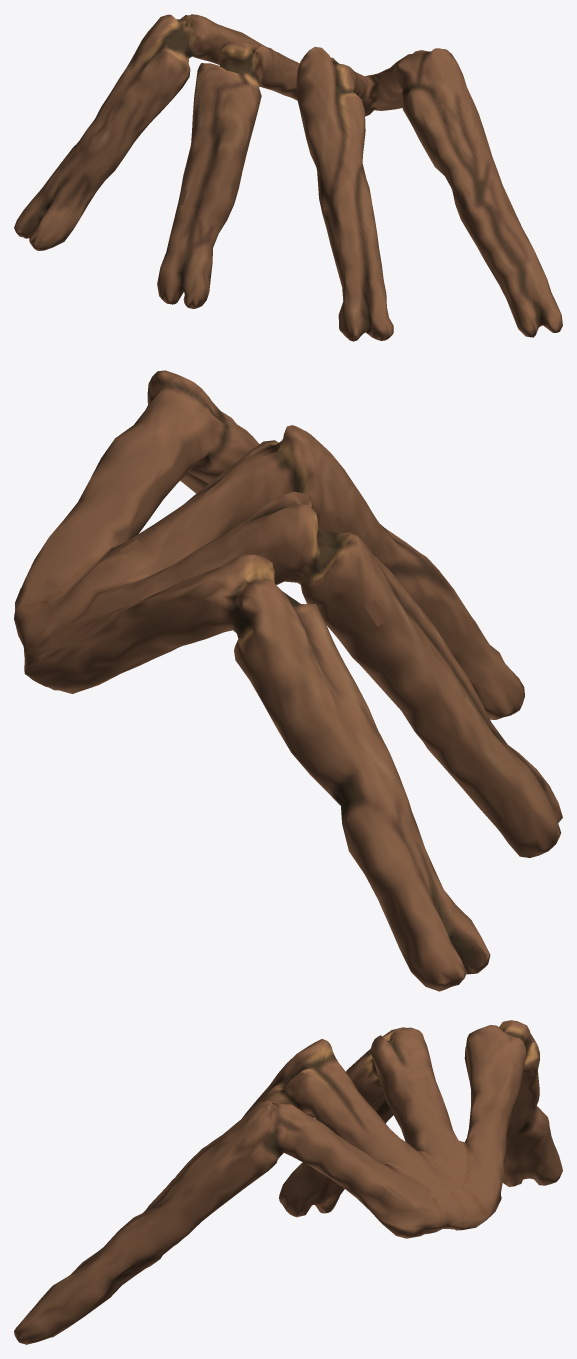
File: sculpture_06.glb
The picture shows the model from 3 angles, top to bottom: view 1: azimuth 30°, elevation 25°; view 2: azimuth 150°, elevation 25°; view 3: azimuth 270°, elevation 25°; orthographic projection. The views are drawn at different scales.
Parts seen in each view (by area): view 1: SCL_02_01; view 2: SCL_02_01; view 3: SCL_02_01.
Part boxes in pixels (bbox=[...]): SCL_02_01: bbox=[14, 14, 562, 341]; SCL_02_01: bbox=[14, 370, 562, 991]; SCL_02_01: bbox=[14, 1020, 562, 1344].
Bounding box in the file's own units: 0.3705 × 0.238 × 0.4697.
1 material, 1 textured.
